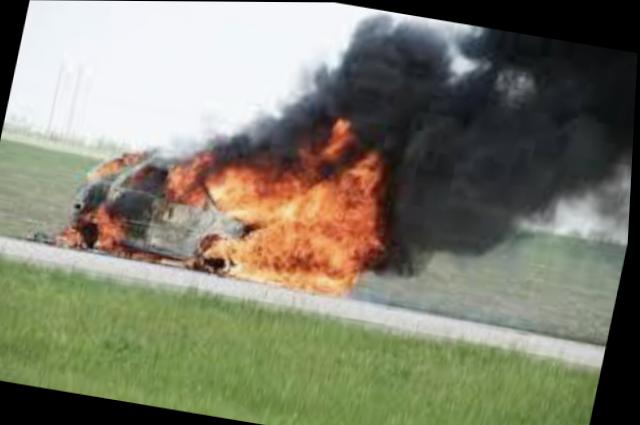fire: (56, 75, 414, 302)
